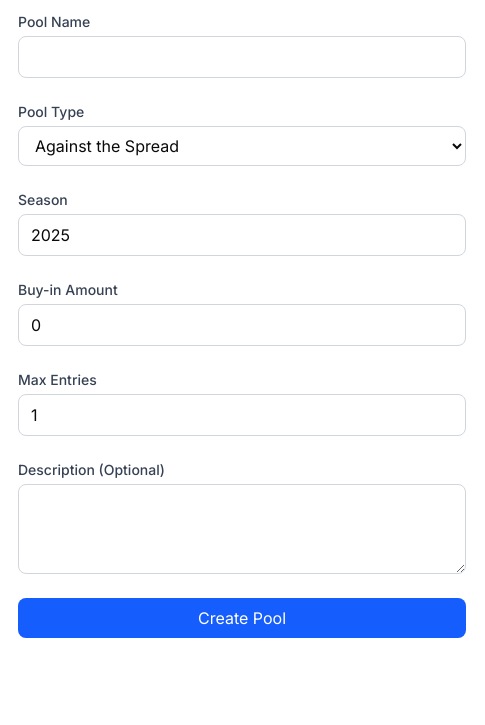
PoolSetup › handles API errors gracefully
Type "Duplicate Pool" into the field labelled "Pool Name".
click(242, 57); type("Duplicate Pool")  # box [18,36,466,78]
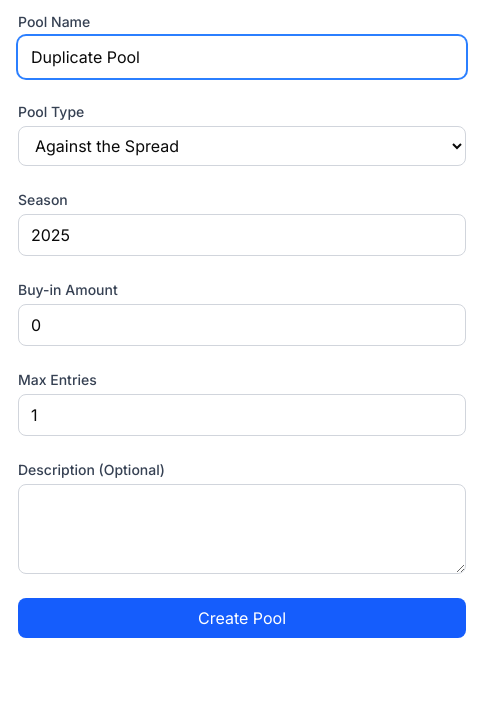
Click the button "Create Pool".
click(242, 618)  # box [18,598,466,638]
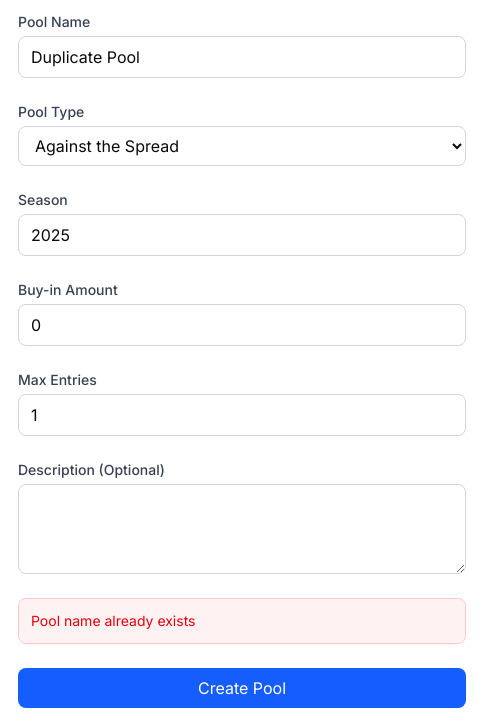
expect the text "Pool name already exists" is shown: met, box [31,612,196,629]
